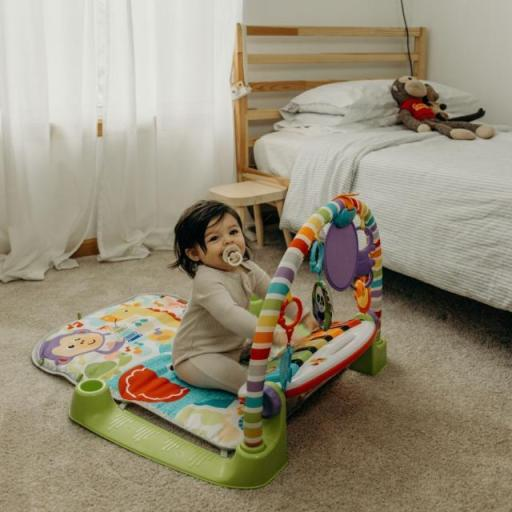baby: (172, 200, 320, 404)
